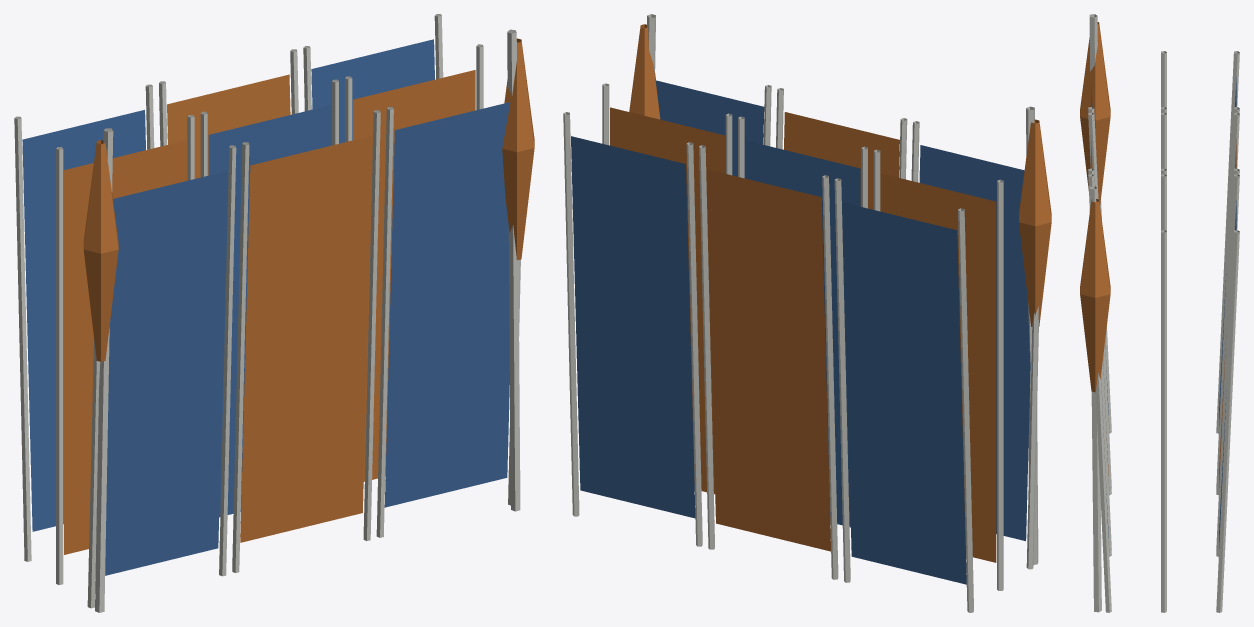
Rendered from sunbed_stack.gltf.
The picture shows the model from 3 angles, left to right: view 1: azimuth 30°, elevation 25°; view 2: azimuth 150°, elevation 25°; view 3: azimuth 270°, elevation 25°; orthographic projection. The views are drawn at different scales.
Visible parts, largest first — view 1: Mesh; view 2: Mesh; view 3: Mesh.
Boxes of the visible parts, x1=… form: Mesh: x1=14, y1=14, x2=534, y2=612; Mesh: x1=563, y1=14, x2=1051, y2=612; Mesh: x1=1080, y1=14, x2=1239, y2=612.
Size of what is drawn, in the model's own units: 2.06 by 2.1 by 0.7243.
